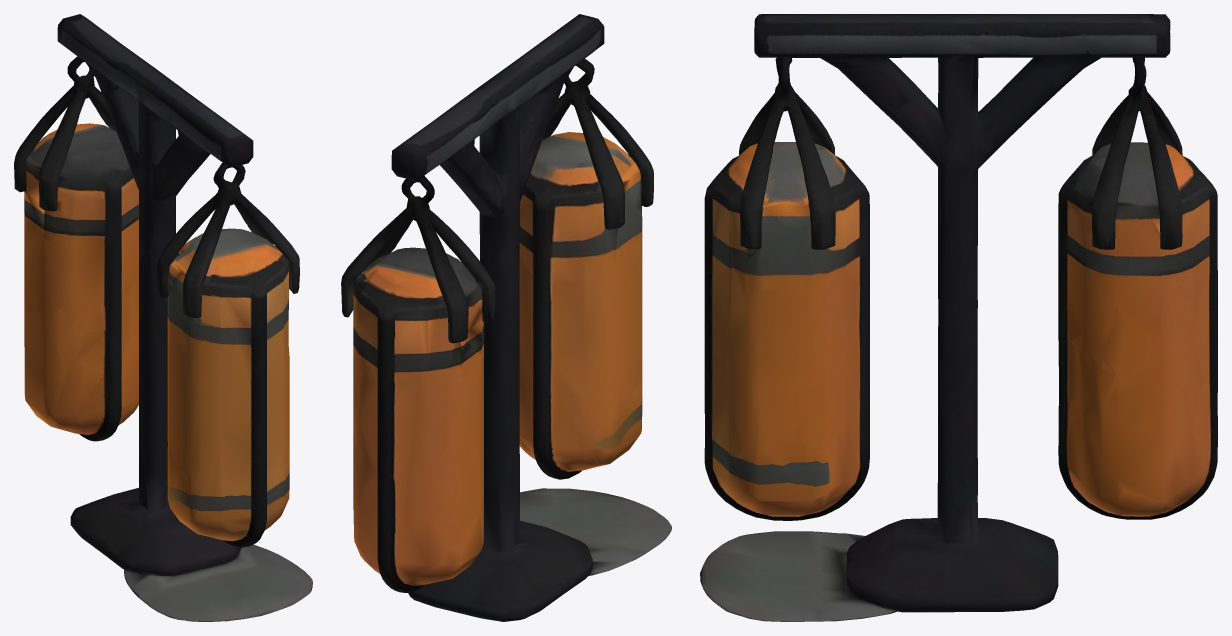
The model's file is punching-bag.glb.
3 views of the same model, side by side, from view 1: azimuth 30°, elevation 25°; view 2: azimuth 150°, elevation 25°; view 3: azimuth 270°, elevation 25° (orthographic). The views are drawn at different scales.
Parts seen in each view (by area): view 1: tripo_node_ae32f665-2efe-482a-89bd-21b8b8129110; view 2: tripo_node_ae32f665-2efe-482a-89bd-21b8b8129110; view 3: tripo_node_ae32f665-2efe-482a-89bd-21b8b8129110.
Boxes of the visible parts, x1,y1,x2,y2 form: tripo_node_ae32f665-2efe-482a-89bd-21b8b8129110: (14,14,312,621); tripo_node_ae32f665-2efe-482a-89bd-21b8b8129110: (341,14,671,621); tripo_node_ae32f665-2efe-482a-89bd-21b8b8129110: (700,14,1217,621).
Size of the model in its own units: 0.3468 by 0.9999 by 0.8379.
Materials: 1 (1 with a texture image).
